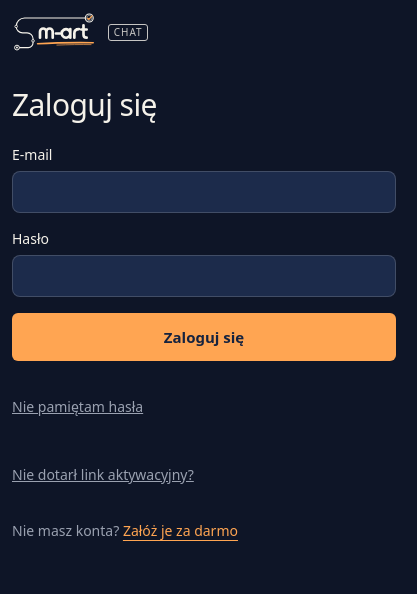
Test: logowanie (A-04) › limit prób mówi, ile poczekać, zamiast „złego hasła”
Type "szef@firma.pl" into the field labelled "E-mail" at (204, 192), box [12, 171, 396, 213]
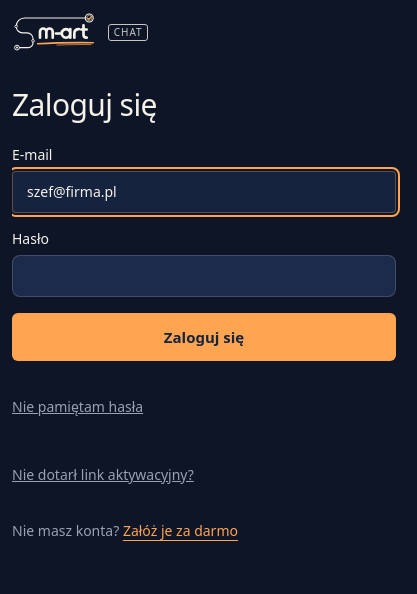
Type "poprawne-haslo" into the password field labelled "Hasło" at (204, 276), box [12, 255, 396, 297]
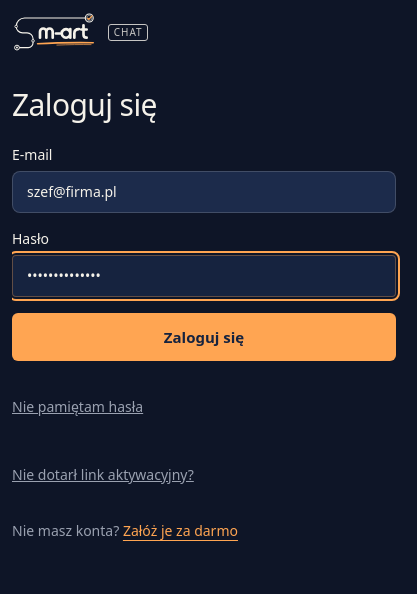
Click the button "Zaloguj się" at (204, 337), box [12, 313, 396, 361]
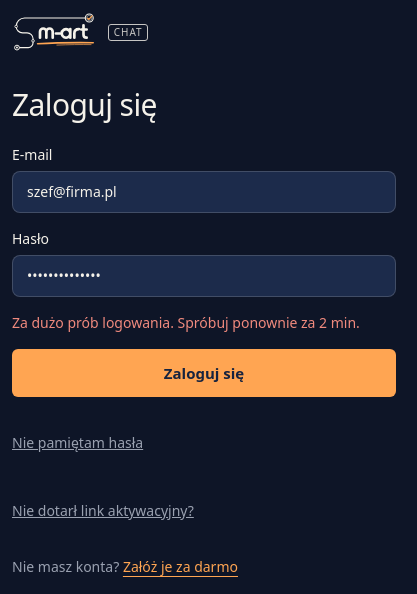
Check: the message reads "Za dużo prób logowania. Spróbuj ponownie za 2 min.", box [12, 313, 360, 332]
